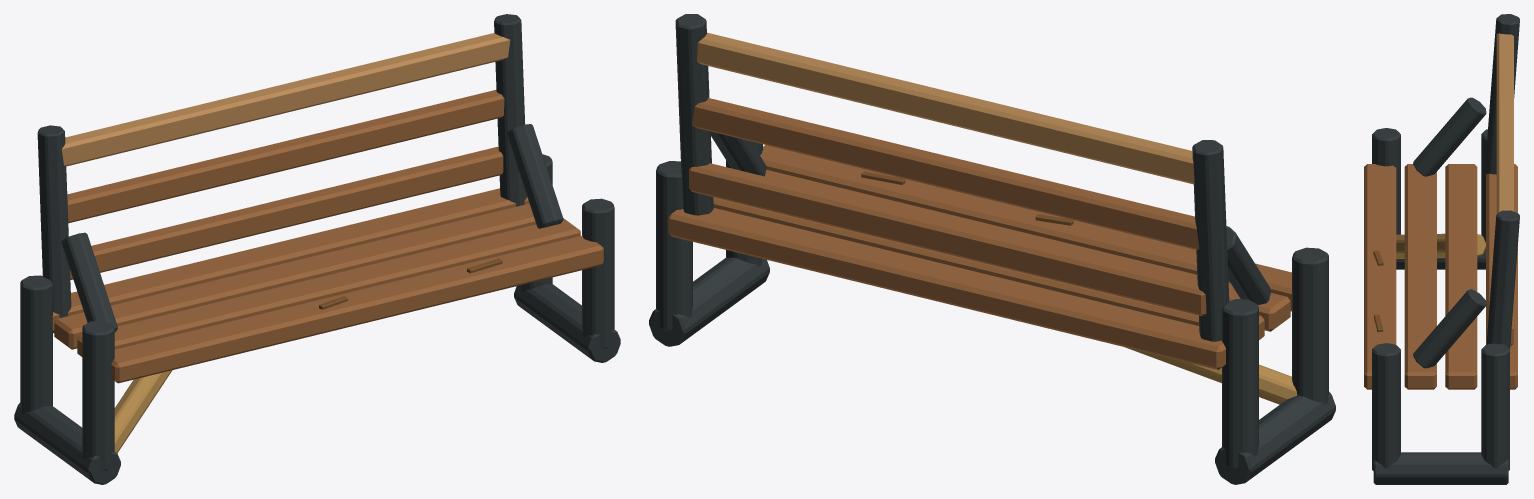
Rendered from runtime.glb.
3 renders of one model, left to right at view 1: azimuth 30°, elevation 25°; view 2: azimuth 150°, elevation 25°; view 3: azimuth 270°, elevation 25°, orthographic. The views are drawn at different scales.
Visible parts, largest first — view 1: eiffel-historic-bench-v07_nocol; view 2: eiffel-historic-bench-v07_nocol; view 3: eiffel-historic-bench-v07_nocol.
Boxes of the visible parts, x1=… form: eiffel-historic-bench-v07_nocol: x1=14, y1=14, x2=620, y2=484; eiffel-historic-bench-v07_nocol: x1=649, y1=14, x2=1335, y2=484; eiffel-historic-bench-v07_nocol: x1=1364, y1=14, x2=1519, y2=484.
Size of the model in its own units: 2.33 by 1.23 by 0.67.
